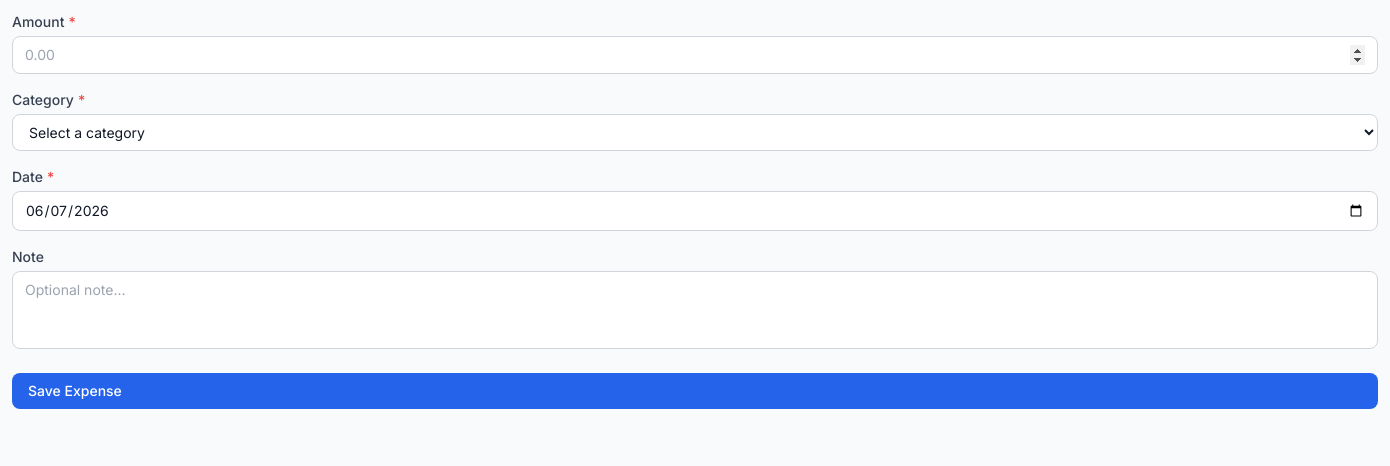
ExpenseForm › shows validation error for empty amount
The width and height of the screenshot is (1390, 466).
Click the button "Save Expense": (75, 390) [12,373,1378,409]
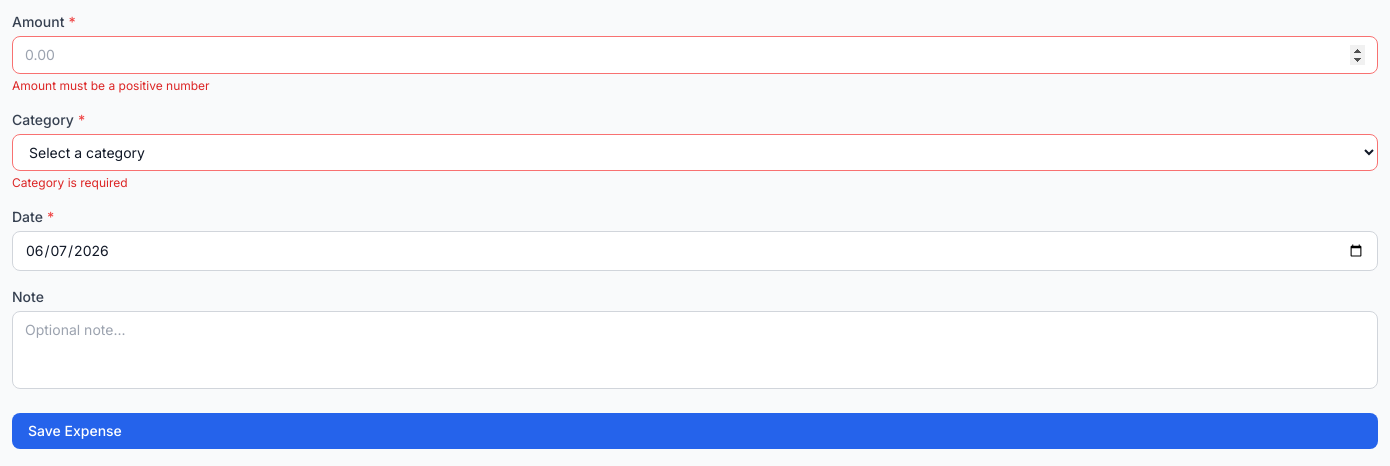
expect the text "Amount must be a positive number" is shown: met, box [12,78,210,93]
